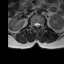CCS_normal: (36, 21, 38, 30)
LFS_normal: (40, 21, 42, 28)
LLS_normal: (38, 21, 40, 28)
RFS_normal: (32, 21, 34, 27)
RLS_normal: (34, 21, 36, 28)
